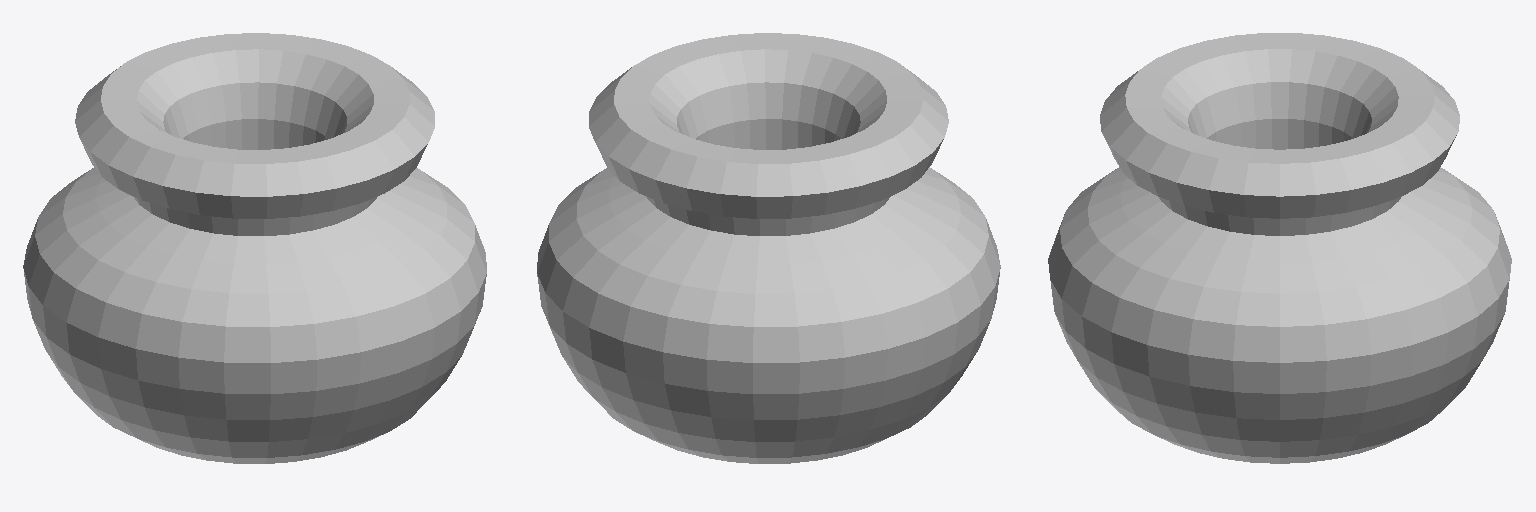
The model's file is SmootherBowl.obj.
The picture shows the model from 3 angles: view 1: azimuth 30°, elevation 25°; view 2: azimuth 150°, elevation 25°; view 3: azimuth 270°, elevation 25°; orthographic projection.
Parts seen in each view (by area): view 1: BetterBowl; view 2: BetterBowl; view 3: BetterBowl.
Part boxes in pixels (x1,y1,x2,y2): BetterBowl: (23,33,486,463); BetterBowl: (537,33,1000,463); BetterBowl: (1048,33,1511,463).
Size of the model in its own units: 21.34 by 15.94 by 21.28.